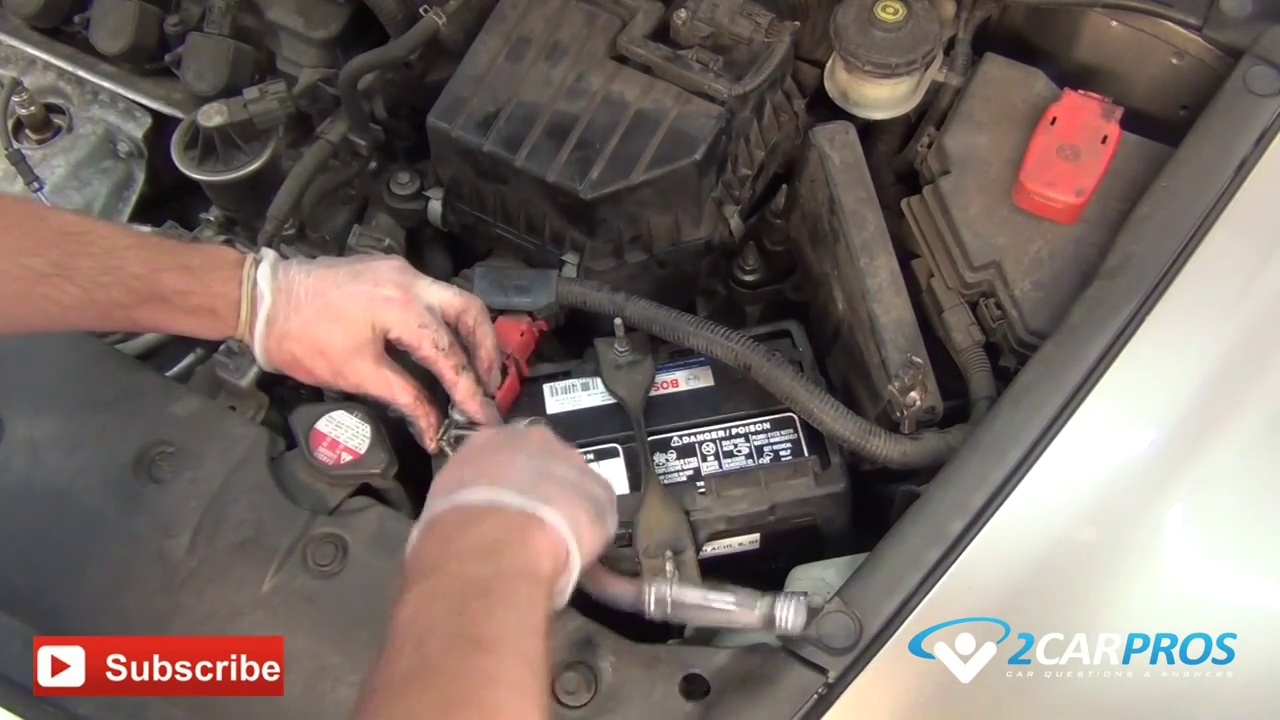battery: (456, 333, 829, 528)
pos_touched: (421, 283, 557, 465)
